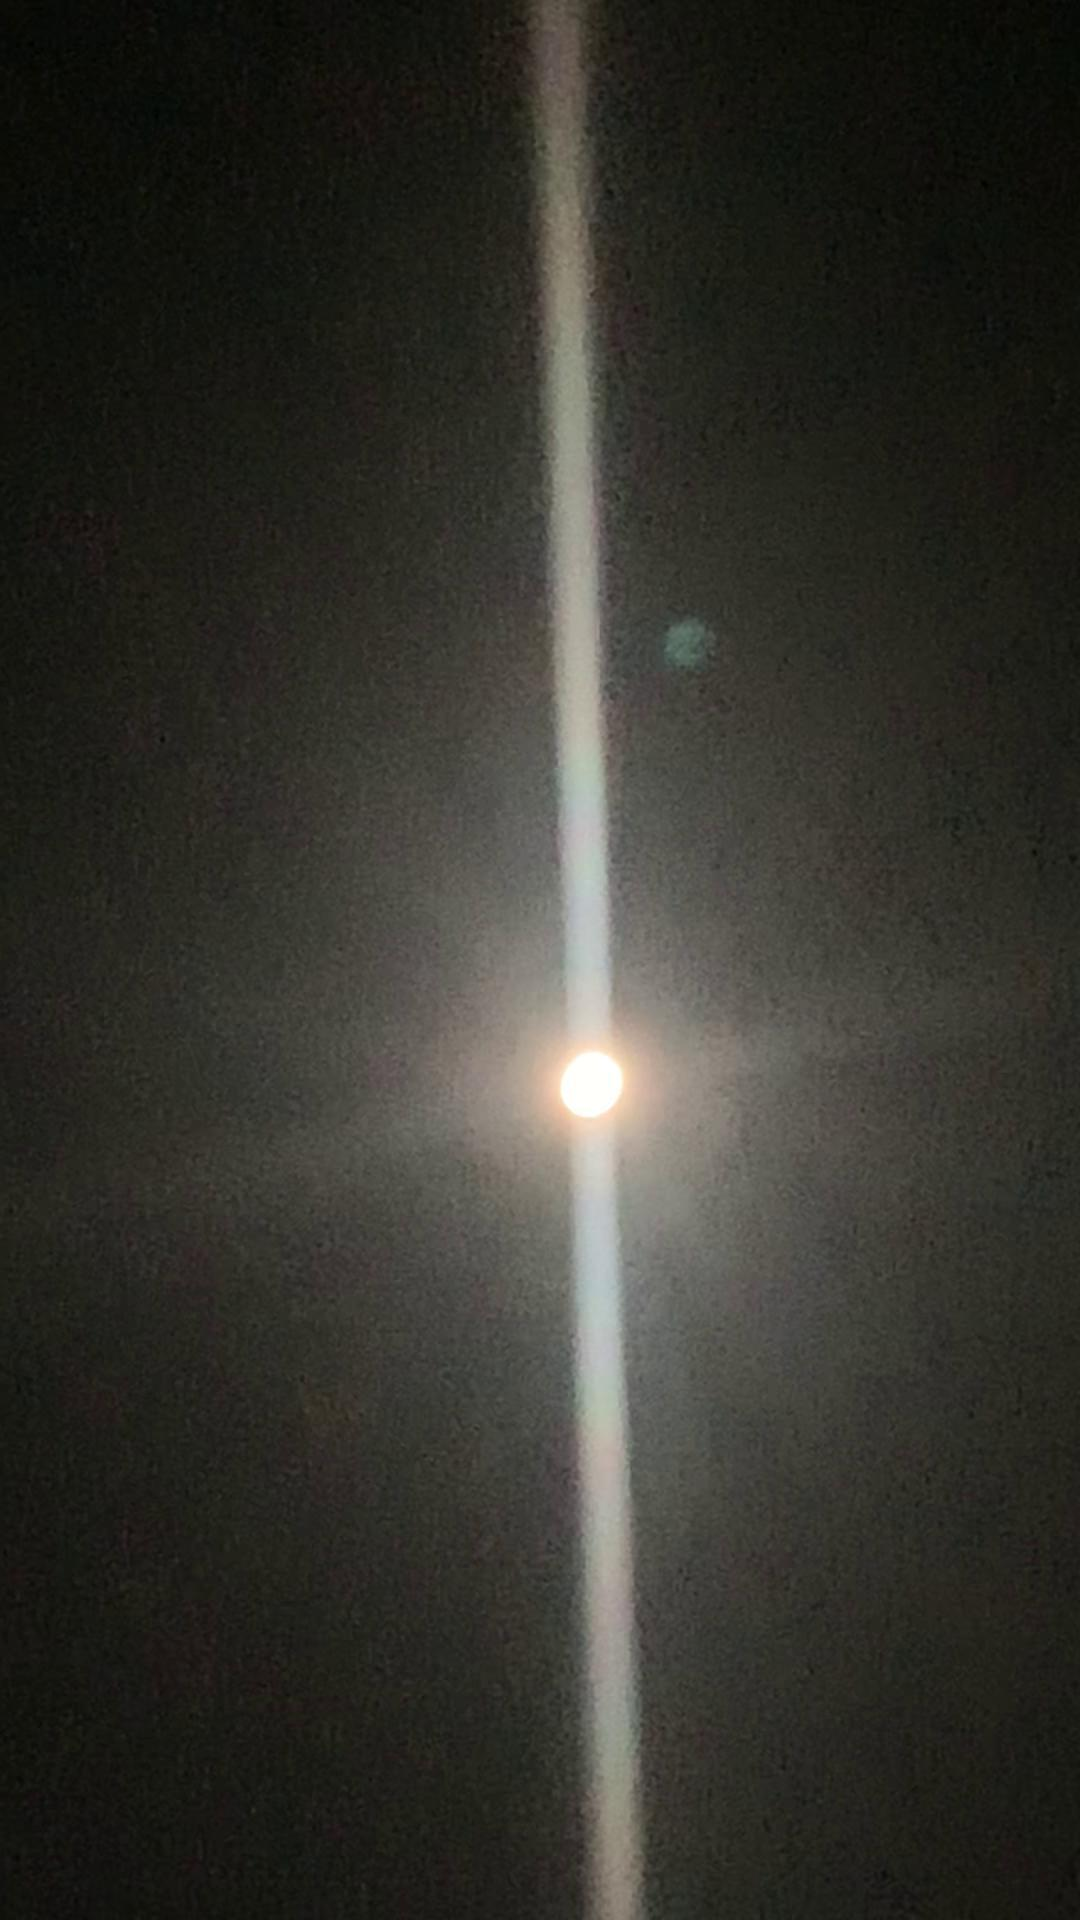moon: (542, 1031, 646, 1138)
